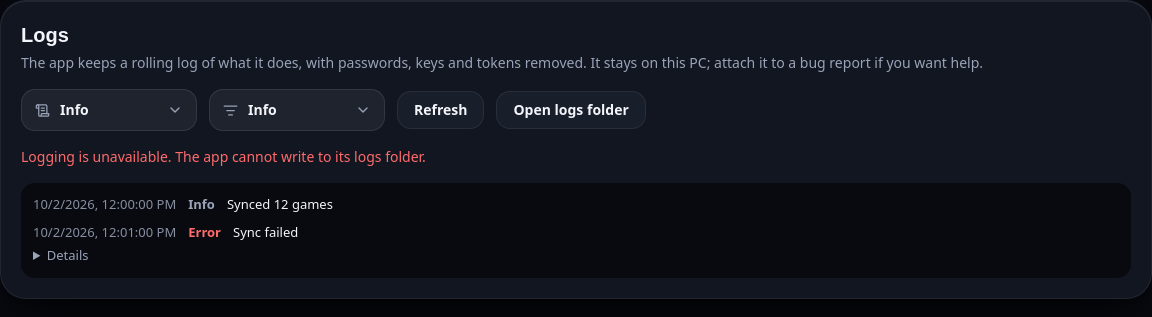
Test: LogsCard › recovers after Refresh once logging works again
Expected: the text "Logging is unavailable. The app cannot write to its logs folder." is shown, x1=21 y1=147 x2=426 y2=166
Click the button "Refresh".
click(441, 110)  # box x1=397 y1=91 x2=484 y2=129
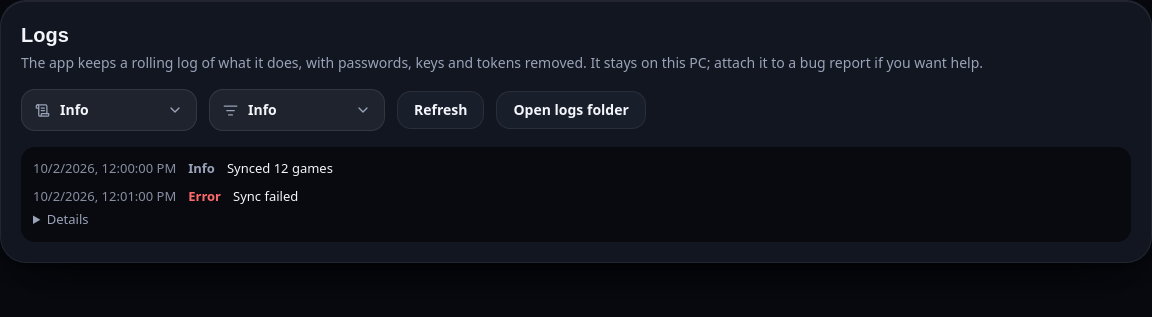
Expected: the text "Logging is unavailable" is gone
